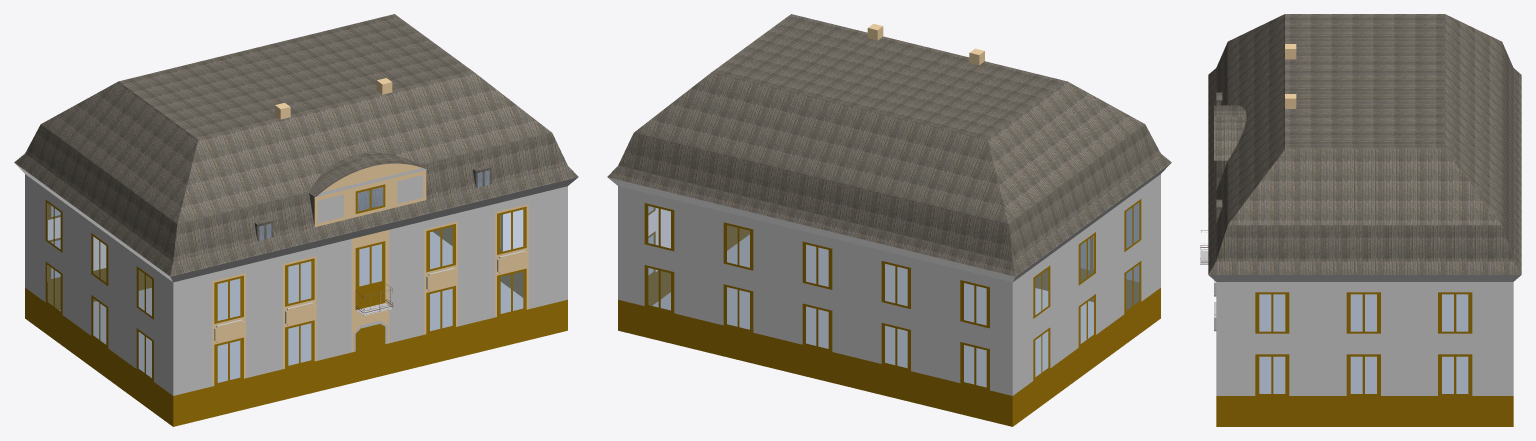
File: muzey-byalynitskogo.glb
3 views of the same model, side by side, from view 1: azimuth 30°, elevation 25°; view 2: azimuth 150°, elevation 25°; view 3: azimuth 270°, elevation 25° (orthographic).
Visible parts, largest first — view 1: Geom3D (×5); view 2: Geom3D (×6); view 3: Geom3D (×6).
Part boxes in pixels (box(x1,y1,x2,y2)): Geom3D (×5): box(14, 14, 578, 426); Geom3D (×6): box(607, 14, 1171, 426); Geom3D (×6): box(1200, 14, 1521, 426).
Size of the model in its own units: 20.71 by 12.5 by 14.05.
6 materials, 2 textured.
